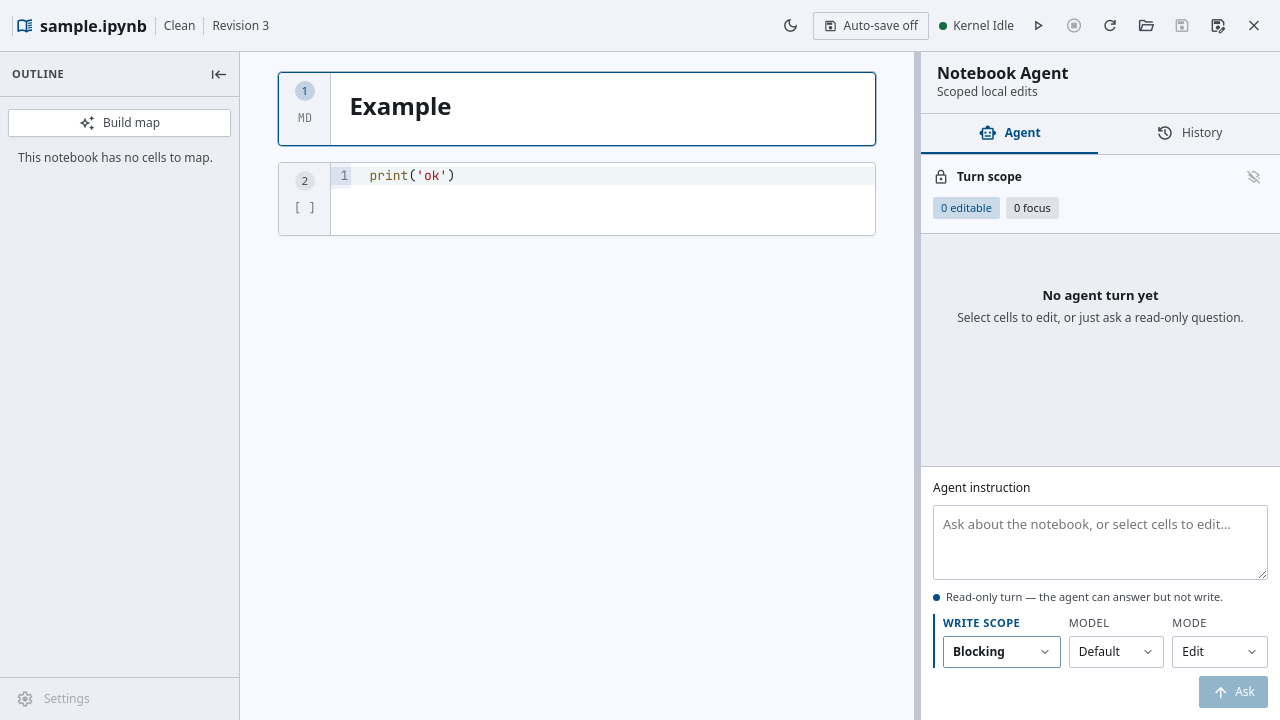
it: Notebook editor › warns after closing when backend cleanup is incomplete
What coordinates should you click on to do the following:
click the button named "Close notebook"
I would click on:
 (1254, 26)
Its box is [1240,12,1268,40].
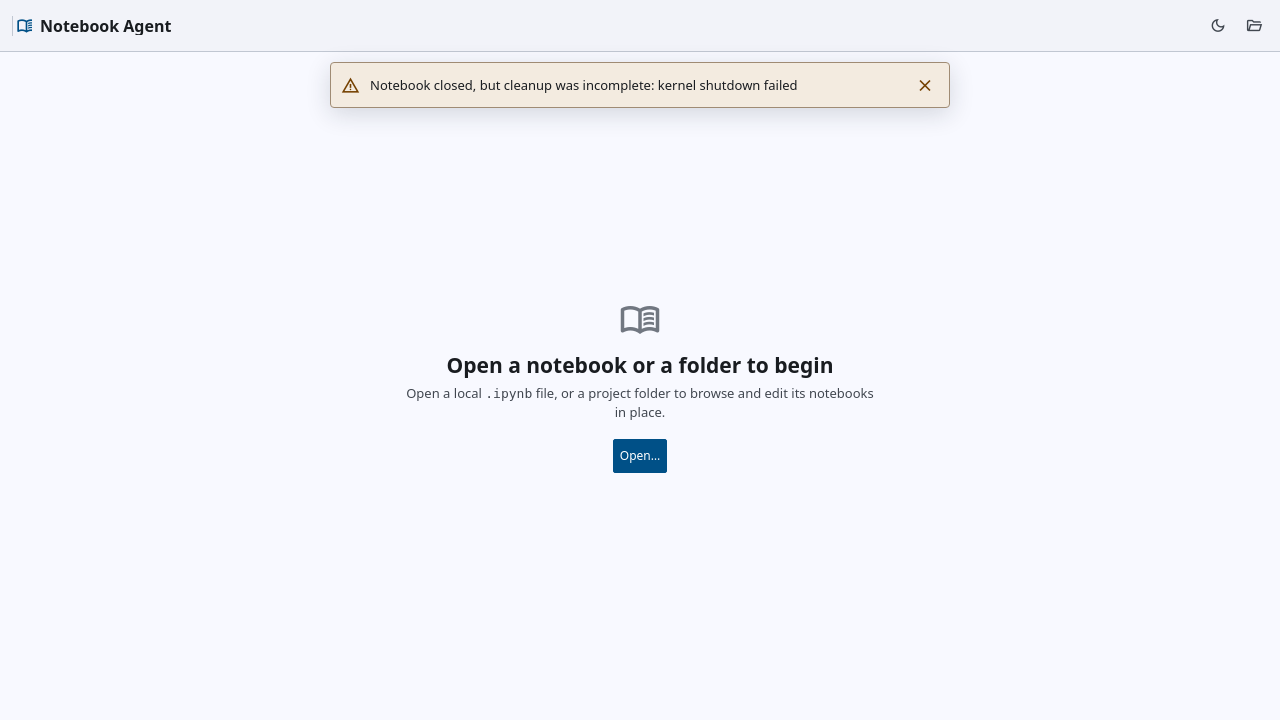
Now the heading "Open a notebook or a folder to begin" is shown, box [446,356,834,374]
Now the message reads "Notebook closed, but cleanup was incomplete: kernel shutdown failed", box [370,76,798,94]
